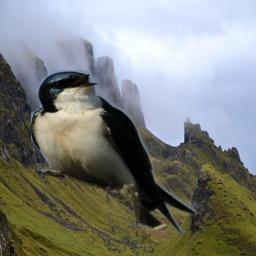Swallow: (31, 70, 197, 235)
